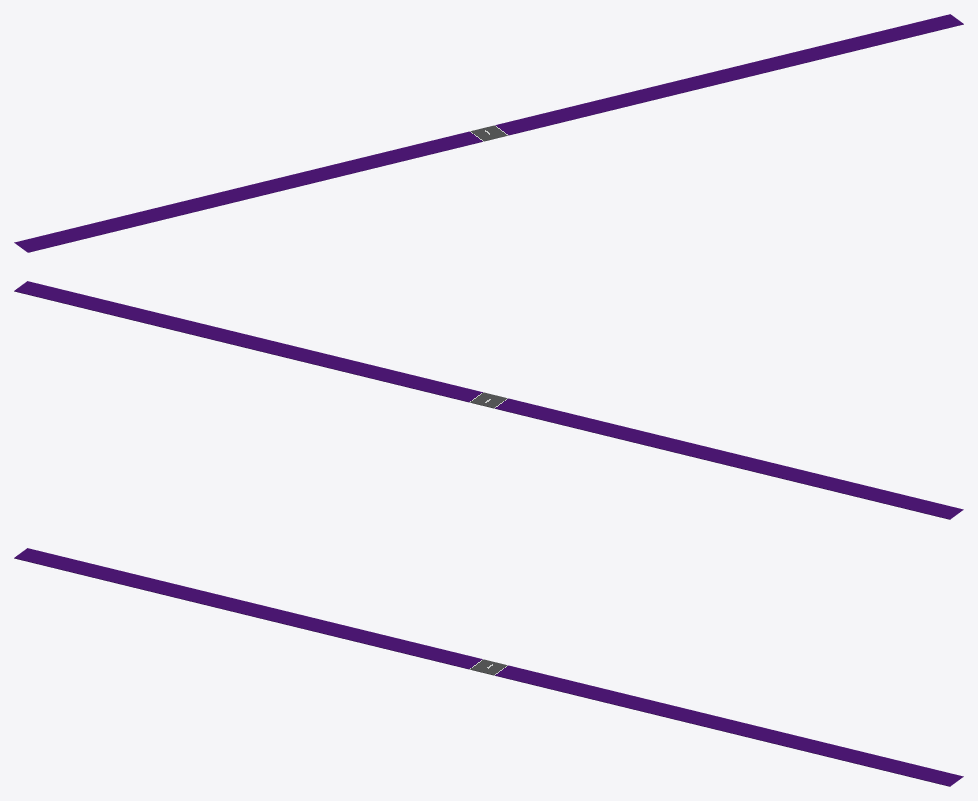
3 renders of one model, top to bottom at view 1: azimuth 30°, elevation 25°; view 2: azimuth 150°, elevation 25°; view 3: azimuth 330°, elevation 25°, orthographic.
Parts seen in each view (by area): view 1: Cube.001; view 2: Cube.001; view 3: Cube.001.
Boxes of the visible parts, x1,y1,x2,y2 form: Cube.001: [14, 14, 963, 252]; Cube.001: [14, 281, 963, 519]; Cube.001: [14, 548, 963, 786].
Bounding box in the file's own units: 40 × 0.0197 × 1.
Materials: 1 (1 with a texture image).
